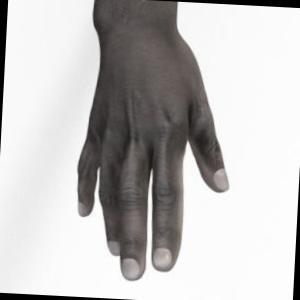paper: (78, 0, 228, 280)
